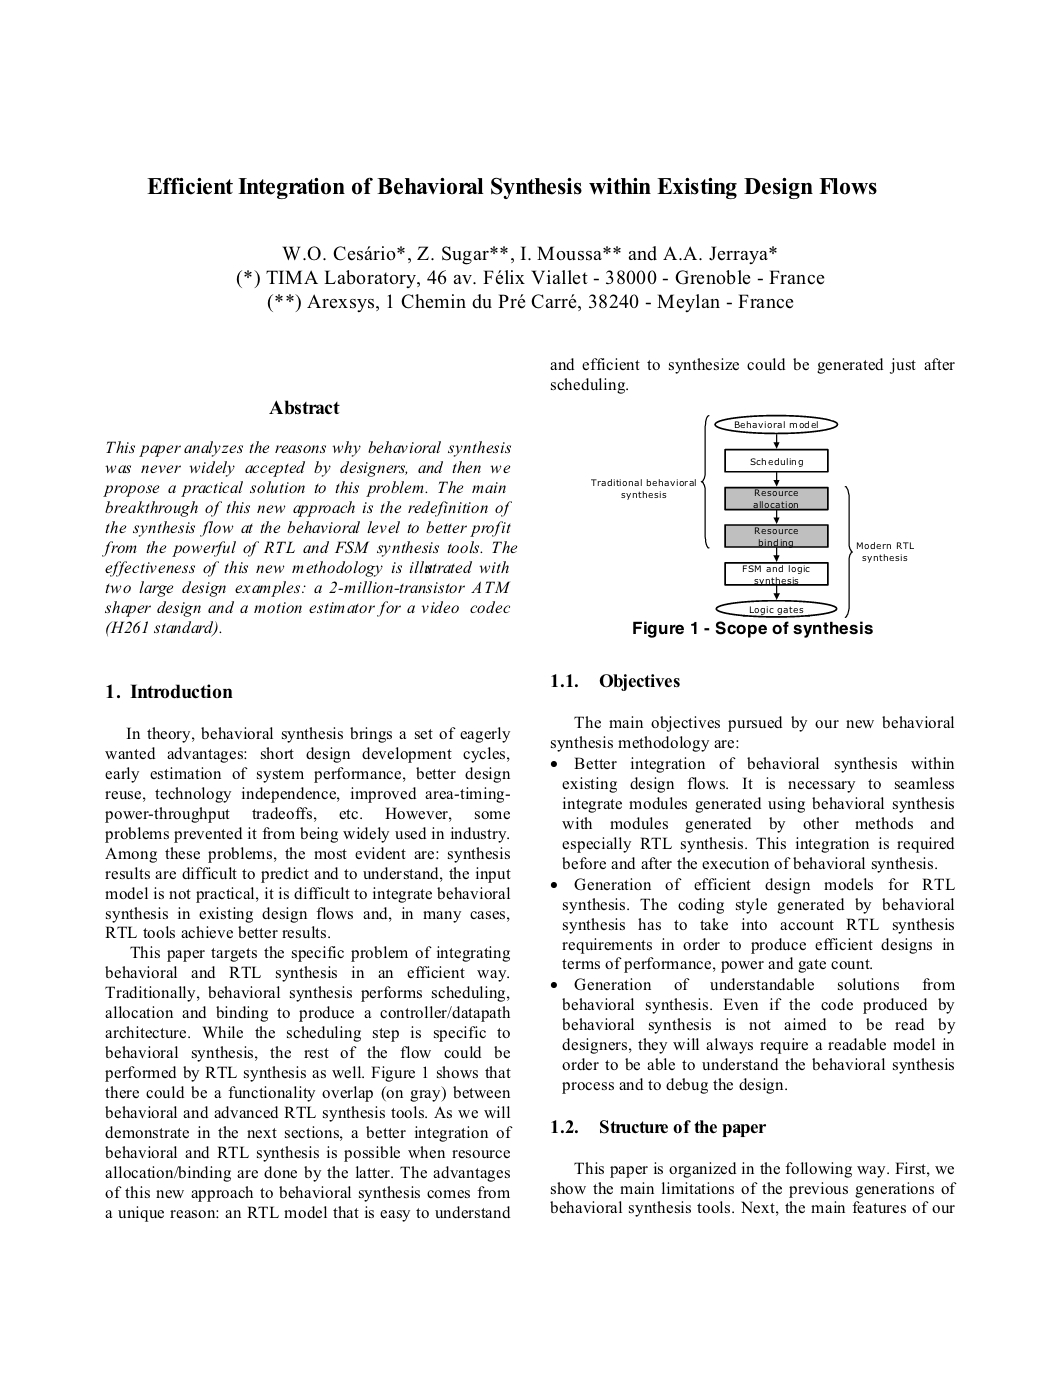figure: (591, 413, 913, 617)
